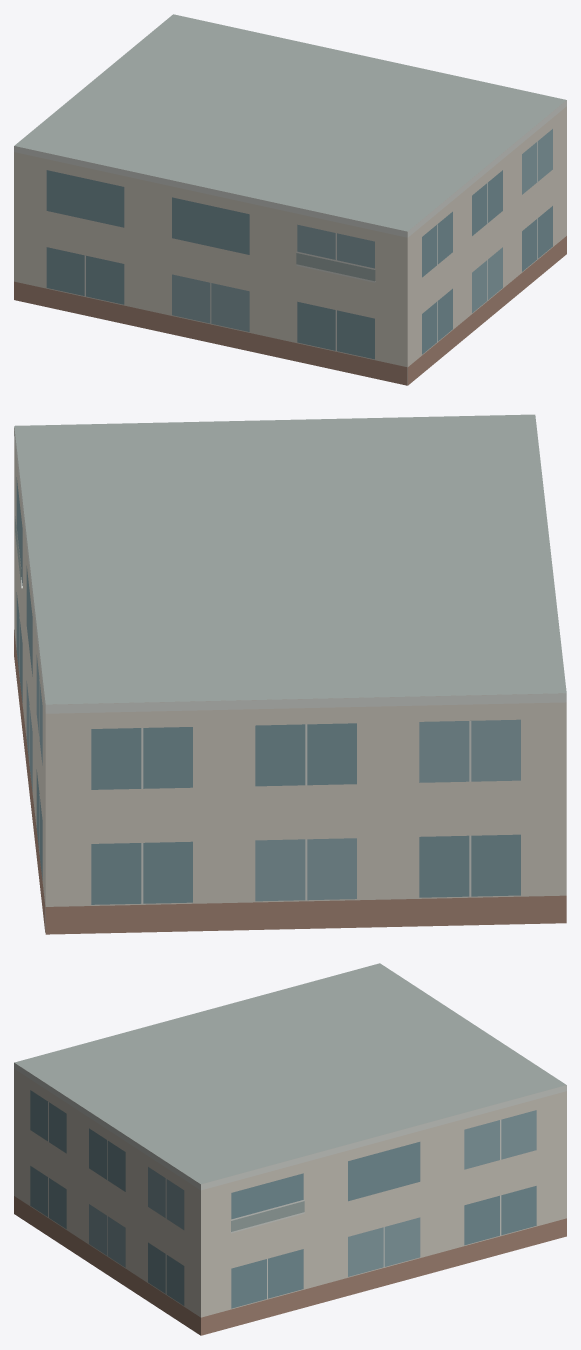
Rendered from survey-upis-32768335.glb.
3 renders of one model, top to bottom at view 1: azimuth 30°, elevation 25°; view 2: azimuth 150°, elevation 25°; view 3: azimuth 270°, elevation 25°, orthographic. The views are drawn at different scales.
Visible parts, largest first — view 1: survey-upis-32768335.tmp; view 2: survey-upis-32768335.tmp; view 3: survey-upis-32768335.tmp.
Boxes of the visible parts, x1=… form: survey-upis-32768335.tmp: x1=14, y1=14, x2=566, y2=385; survey-upis-32768335.tmp: x1=14, y1=414, x2=566, y2=934; survey-upis-32768335.tmp: x1=14, y1=963, x2=566, y2=1335.
Size of the model in its own units: 19.13 by 6.1 by 20.2.
